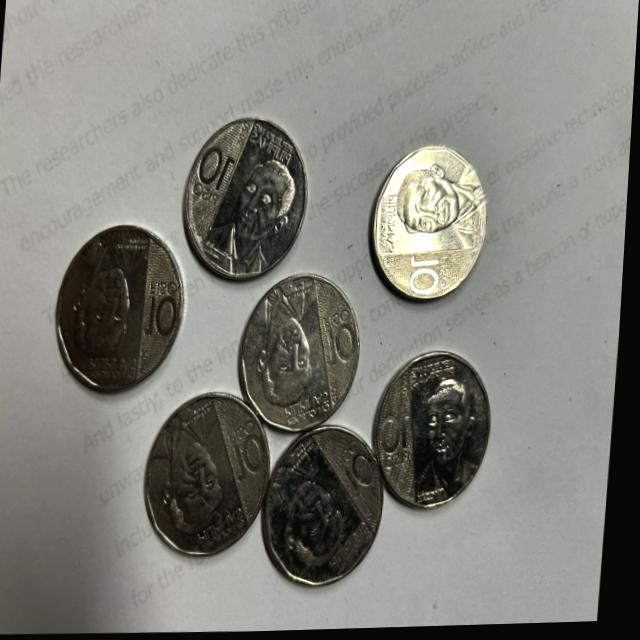10_New_Front: (143, 271, 191, 344), (230, 419, 278, 487), (202, 139, 244, 209), (337, 443, 386, 501), (380, 415, 428, 474), (402, 250, 458, 298), (320, 316, 364, 370)
